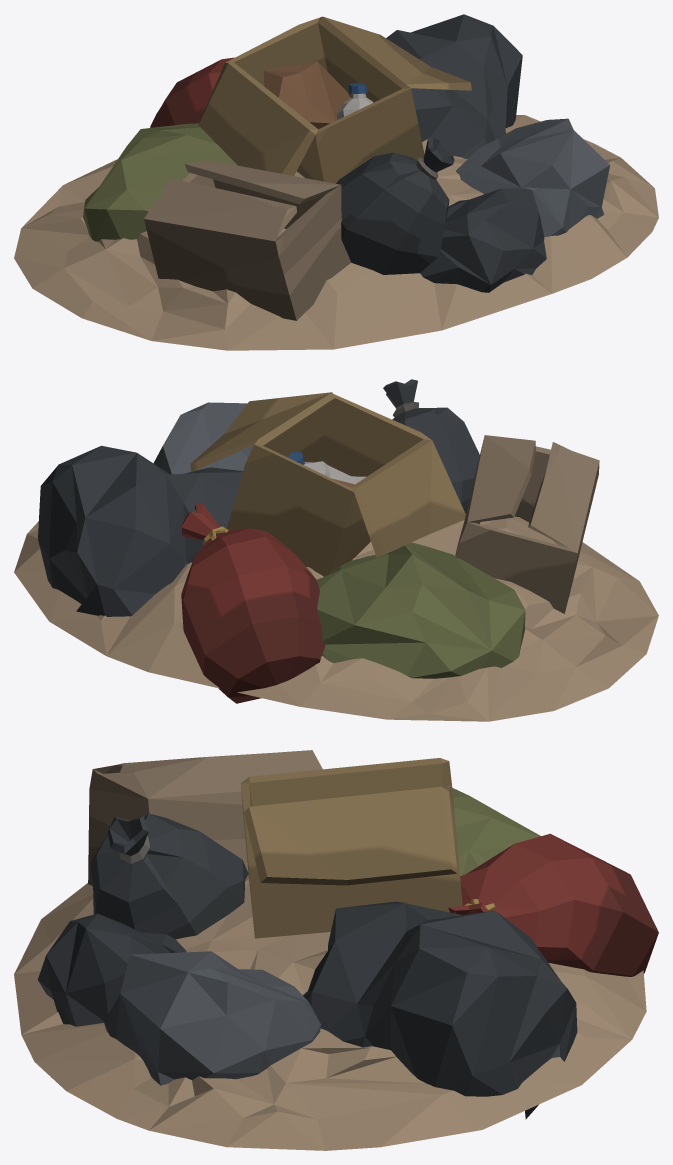
File: SM_Prop_Rubbish_Pile_01.glb
3 renders of one model, top to bottom at view 1: azimuth 30°, elevation 25°; view 2: azimuth 150°, elevation 25°; view 3: azimuth 270°, elevation 25°, orthographic. The views are drawn at different scales.
Parts seen in each view (by area): view 1: SM_Prop_Rubbish_Pile_01; view 2: SM_Prop_Rubbish_Pile_01; view 3: SM_Prop_Rubbish_Pile_01.
Boxes of the visible parts, <box> form: SM_Prop_Rubbish_Pile_01: <box>14,14,658,350</box>; SM_Prop_Rubbish_Pile_01: <box>14,379,658,721</box>; SM_Prop_Rubbish_Pile_01: <box>14,750,658,1150</box>.
Size of the model in its own units: 2.82 by 0.9453 by 2.24.
Materials: 1 (1 with a texture image).
